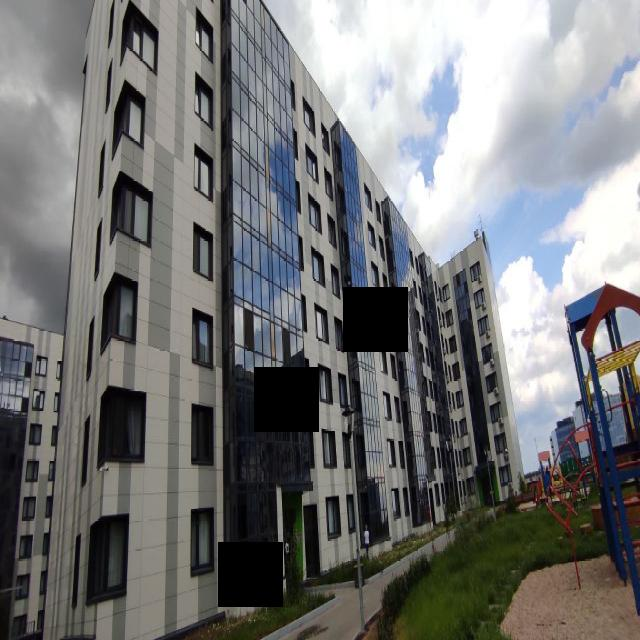Building: (42, 0, 527, 640)
